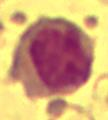lymphocyte: (7, 15, 96, 99)
